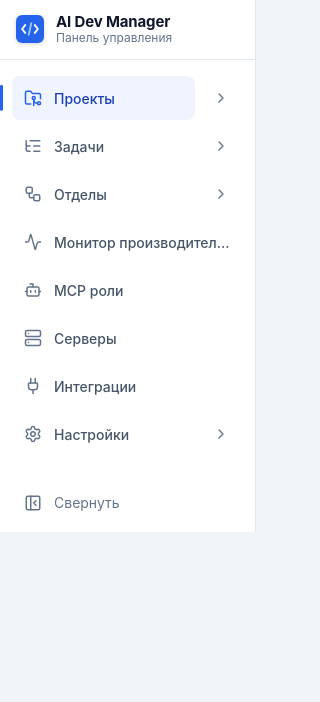
Scenario: Sidebar — сворачиваемые категории навигации › открытие второй категории сворачивает первую (раскрыта не более одной)
// Раскрываем «Проекты»
Click the button named "Раскрыть «Проекты»" at [221, 98], box [199,76,243,120]
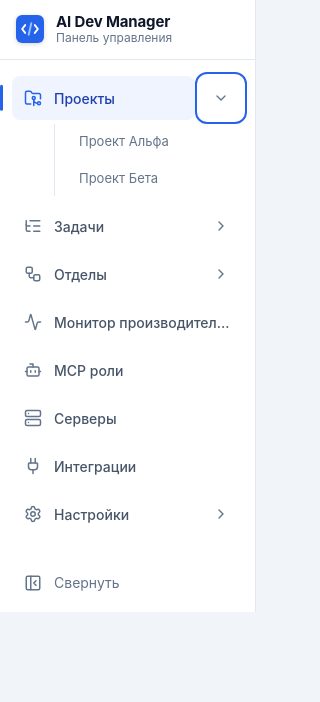
Expected: the button named "Свернуть «Проекты»" is expanded, [199,76,243,120]
Expected: the link "Проект Альфа" is shown, [79,133,169,149]
// Раскрываем «Настройки» — «Проекты» должны свернуться
Click the button named "Раскрыть «Настройки»" at [221, 514], box [199,492,243,536]
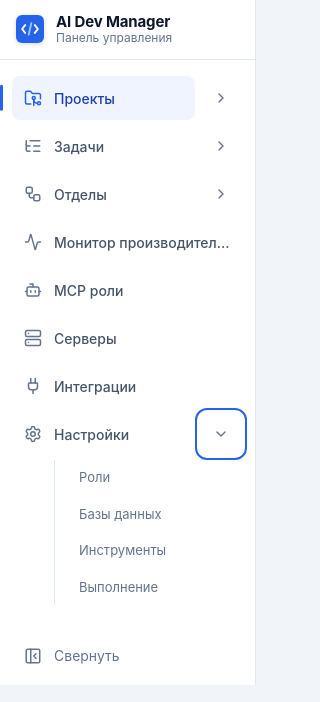
Expected: the button named "Раскрыть «Проекты»" is collapsed, [199,76,243,120]
Expected: the link "Проект Альфа" is gone
Expected: the link "Роли" is shown, [79,469,110,485]
